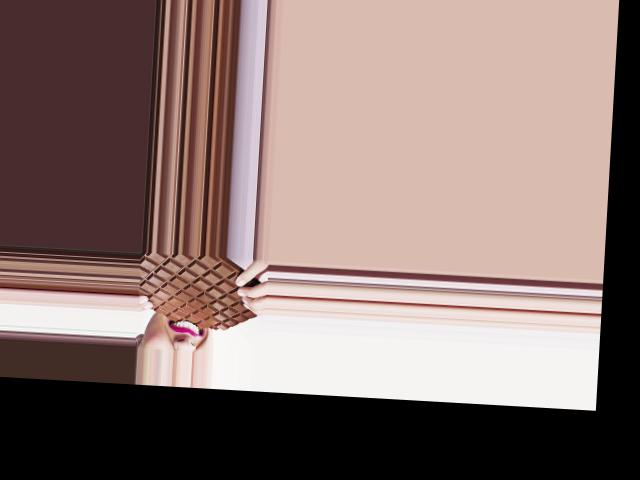chocolate: (137, 252, 269, 335)
